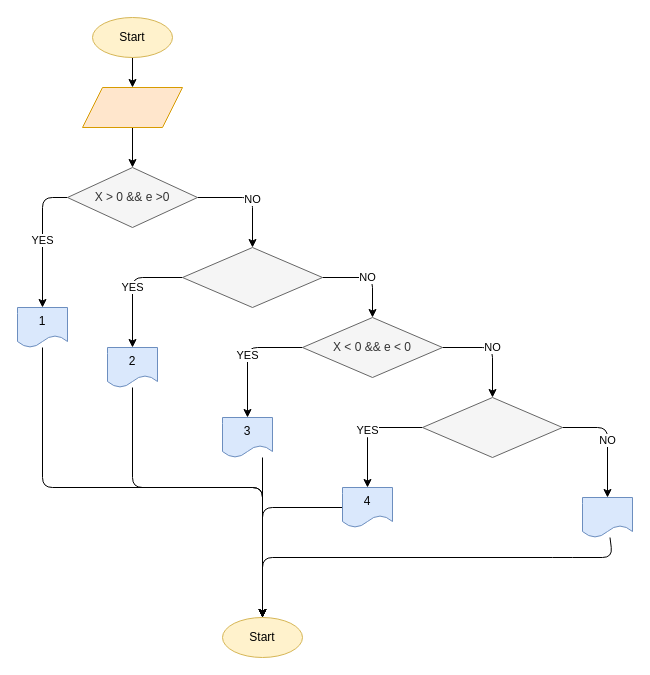
The diagram is 650 pixels wide and 675 high, and some of its shapes have lost their labels. Here are the shapes that lost their labels. From the top down, the centre of each, then its label:
At [132,107]: "x, y".
At [252,277]: "X > 0 && e < 0".
At [492,427]: "X < 0 && e > 0".
At [607,517]: "ошибка".
